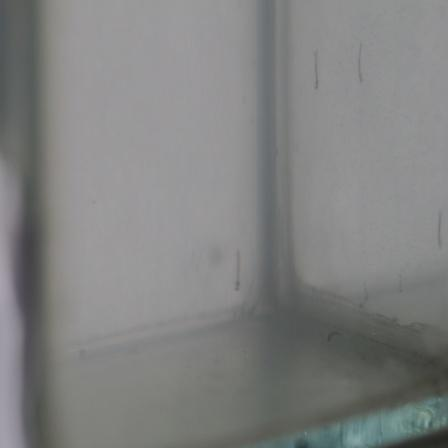Jentik-Nyamuk: (228, 246, 245, 293), (309, 52, 325, 91)
